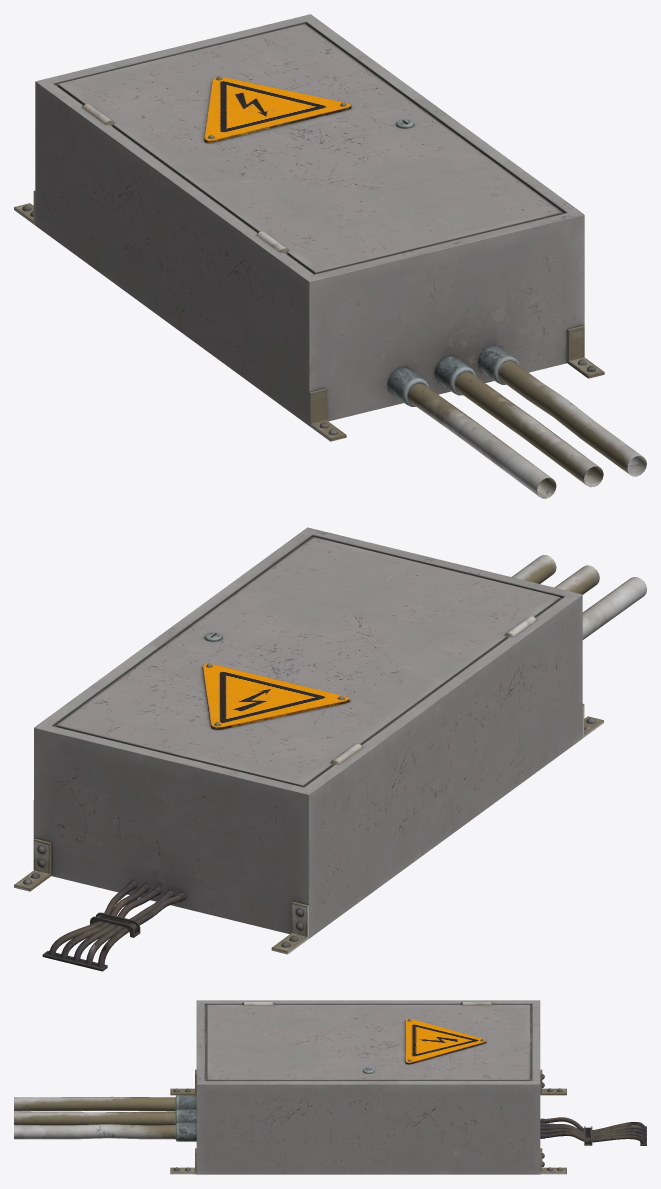
The model's file is panel_cabinet.glb.
3 renders of one model, top to bottom at view 1: azimuth 30°, elevation 25°; view 2: azimuth 150°, elevation 25°; view 3: azimuth 270°, elevation 25°, orthographic. The views are drawn at different scales.
Visible parts, largest first — view 1: Electrical control panel; view 2: Electrical control panel; view 3: Electrical control panel.
Part boxes in pixels (box(x1,y1,x2,y2)): Electrical control panel: box(14, 14, 646, 498); Electrical control panel: box(14, 527, 646, 971); Electrical control panel: box(14, 1000, 646, 1174).
Bounding box in the file's own units: 0.6 × 0.3137 × 1.9.
1 material, 1 textured.
